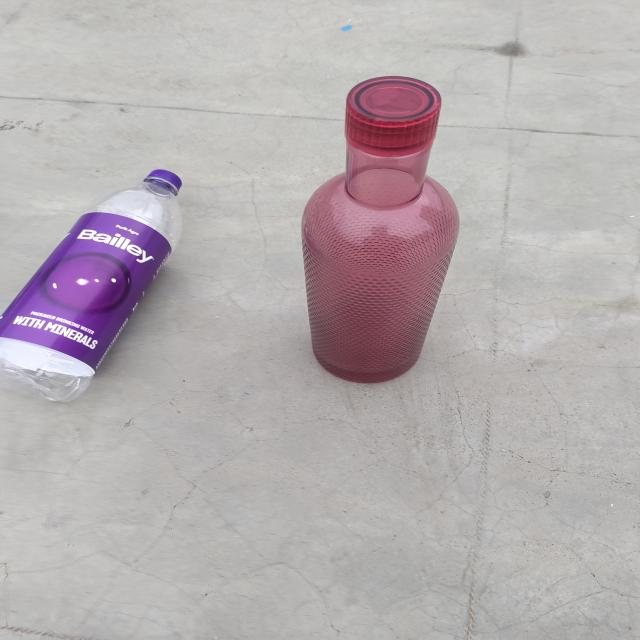plastic: (264, 76, 500, 421), (2, 129, 224, 432)
